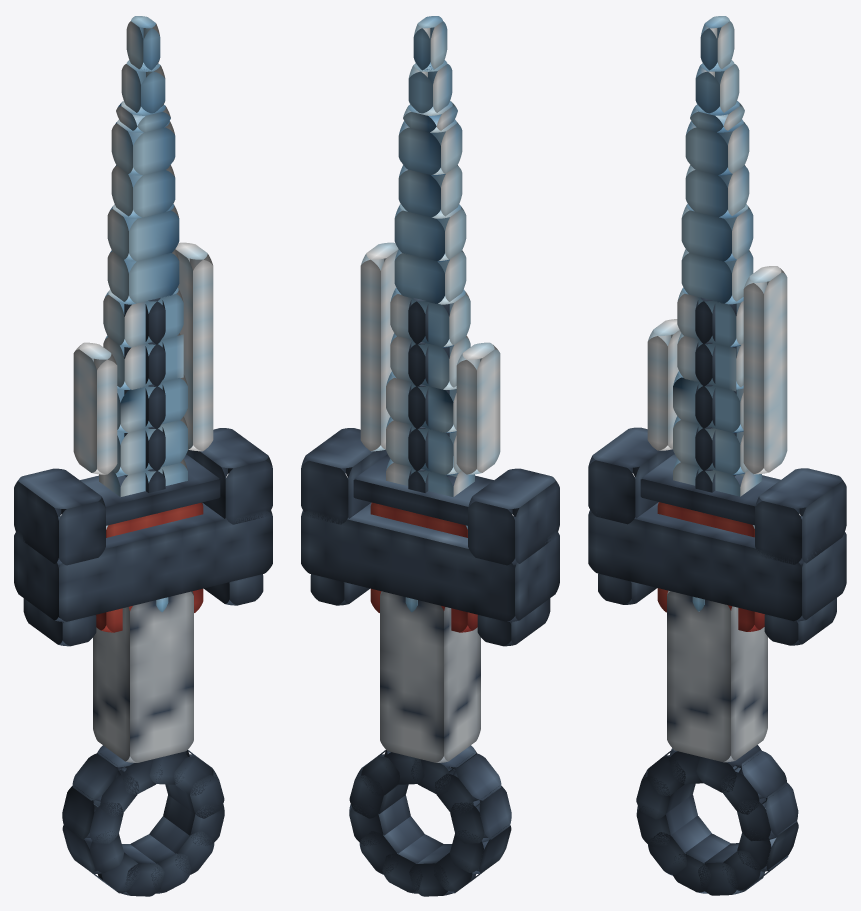
The model's file is icicle_dirk.obj.
3 views of the same model, side by side, from view 1: azimuth 30°, elevation 25°; view 2: azimuth 150°, elevation 25°; view 3: azimuth 330°, elevation 25° (orthographic).
Visible parts, largest first — view 1: lit, fire; view 2: lit, fire; view 3: lit, fire.
Part boxes in pixels (x1=…): lit: x1=14, y1=16, x2=272, y2=896; fire: x1=73, y1=242, x2=213, y2=612; lit: x1=301, y1=16, x2=559, y2=896; fire: x1=360, y1=242, x2=500, y2=612; lit: x1=588, y1=16, x2=846, y2=895; fire: x1=647, y1=266, x2=787, y2=611.
Size of the model in its own units: 0.397 by 1.53 by 0.1438.
